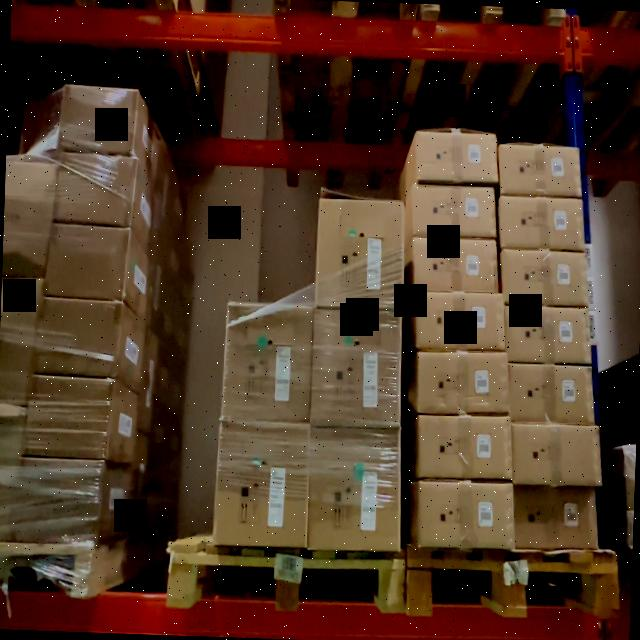box: (214, 424, 310, 546), (310, 430, 404, 550), (314, 312, 404, 426), (222, 308, 312, 422), (319, 200, 407, 308), (29, 377, 111, 459), (20, 462, 100, 542), (416, 482, 514, 546), (416, 416, 512, 478), (40, 300, 118, 375), (412, 290, 505, 351), (1, 161, 52, 272), (418, 353, 508, 414), (49, 229, 124, 299), (58, 156, 135, 224), (61, 86, 134, 154), (513, 425, 597, 484), (510, 364, 592, 424), (514, 490, 596, 549), (504, 250, 590, 306), (508, 306, 588, 362), (502, 198, 586, 250), (416, 238, 497, 291), (416, 131, 498, 183), (502, 144, 582, 196), (416, 185, 496, 237), (0, 286, 35, 401), (0, 408, 20, 535)
